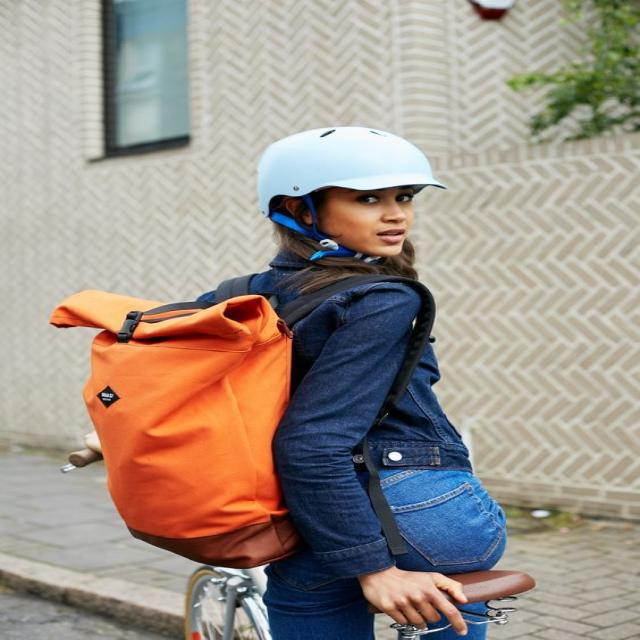Helmet: (257, 126, 443, 259)
